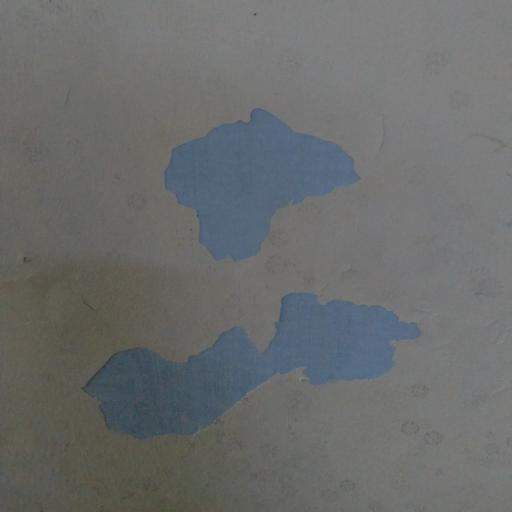peeling: (68, 274, 436, 454), (150, 98, 371, 271)
